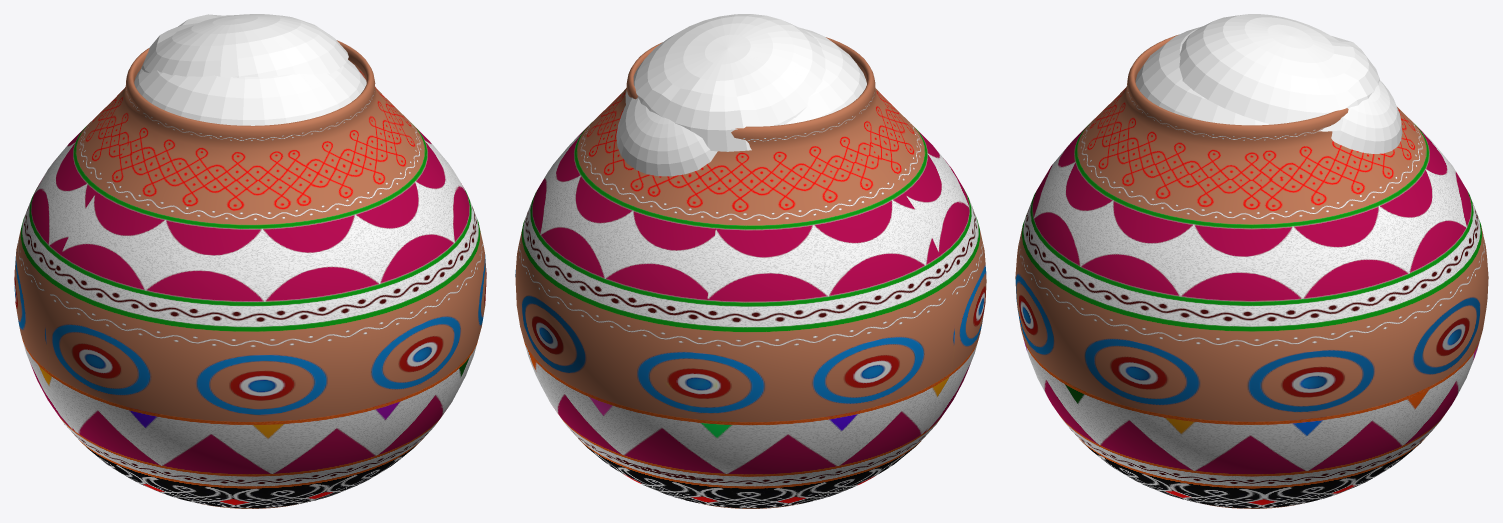
File: potPongal.glb
3 views of the same model, side by side, from view 1: azimuth 30°, elevation 25°; view 2: azimuth 150°, elevation 25°; view 3: azimuth 270°, elevation 25° (orthographic).
Visible parts, largest first — view 1: Sphere, Sphere.001; view 2: Sphere, Sphere.001; view 3: Sphere, Sphere.001.
Part boxes in pixels (x1=…): Sphere: x1=14, y1=40, x2=486, y2=508; Sphere.001: x1=134, y1=14, x2=366, y2=125; Sphere: x1=515, y1=37, x2=986, y2=508; Sphere.001: x1=616, y1=14, x2=866, y2=176; Sphere: x1=1015, y1=34, x2=1488, y2=508; Sphere.001: x1=1135, y1=14, x2=1402, y2=153.
Bounding box in the file's own units: 1.59 × 1.7 × 1.59.
Materials: 2 (1 with a texture image).
